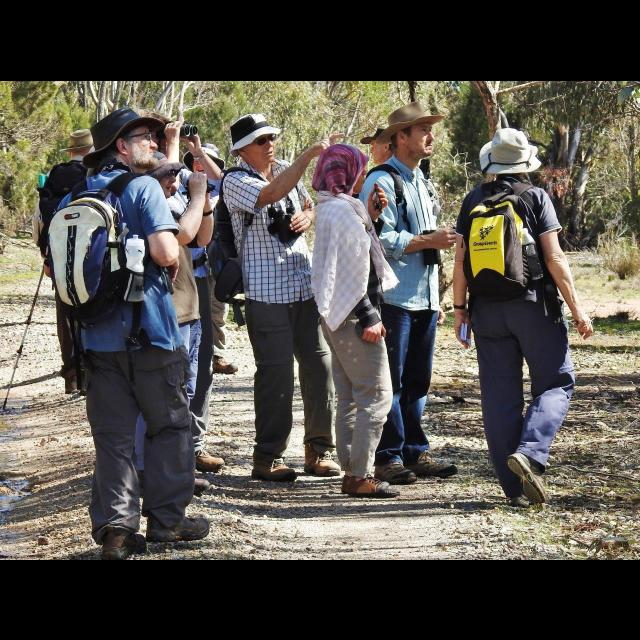head: (101, 114, 159, 168), (320, 143, 368, 195), (391, 111, 437, 157), (138, 149, 176, 199), (232, 121, 276, 163), (492, 131, 528, 177), (135, 114, 169, 158), (368, 130, 400, 164), (192, 147, 218, 177), (70, 136, 92, 158)
person: (46, 103, 212, 559), (448, 121, 598, 511), (204, 100, 348, 484), (351, 96, 473, 488), (304, 138, 408, 504), (134, 106, 230, 478), (116, 143, 212, 505), (351, 123, 435, 459), (26, 123, 122, 401), (175, 135, 241, 377)
